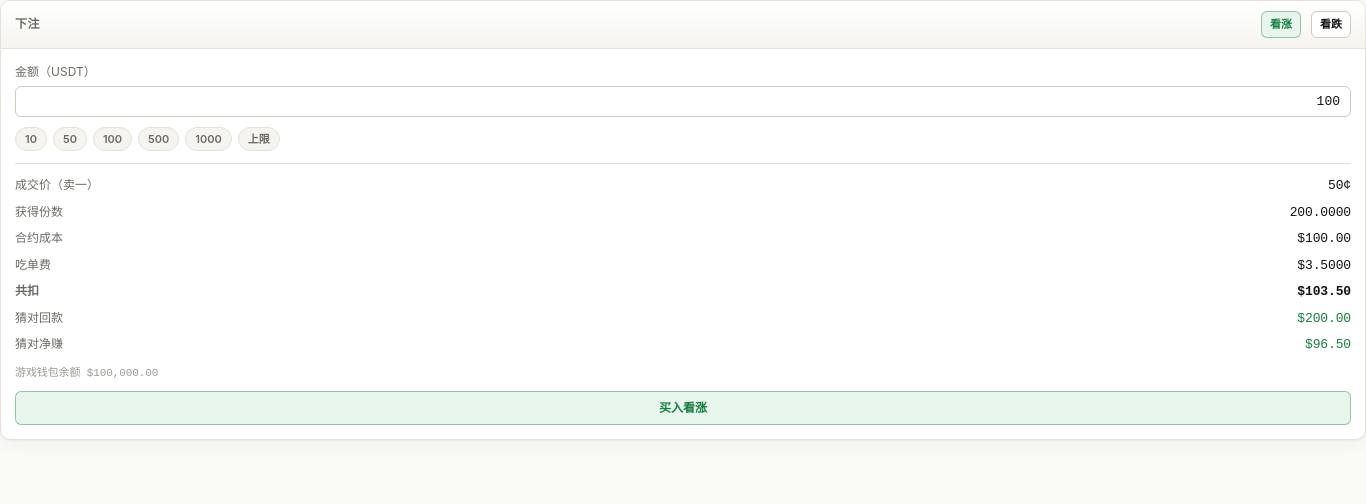
BetTicket：下单与错误提示 › 后端拒绝时显示中文原因（按错误码映射）
Expected: the text "200.0000" is shown, [1290,204,1351,220]
Click the button "买入看涨" at (683, 408), box [15,391,1351,425]
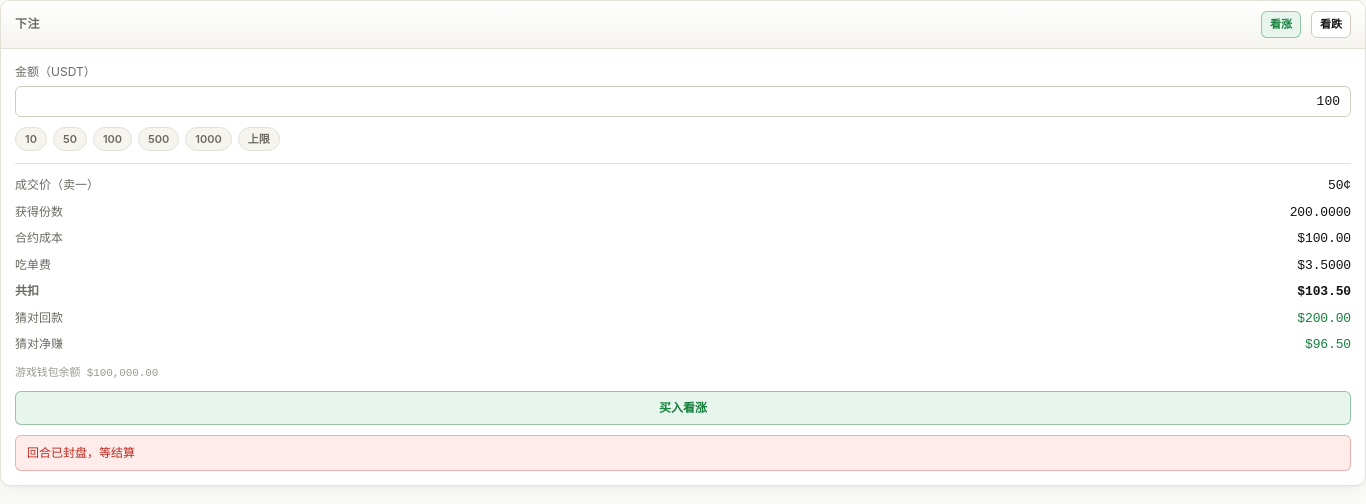
Result: the text "回合已封盘，等结算" is shown at [15,435,1351,471]
